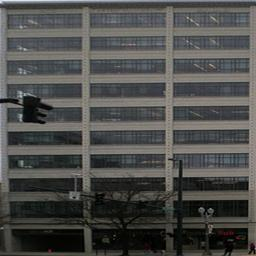building: (0, 0, 256, 253)
